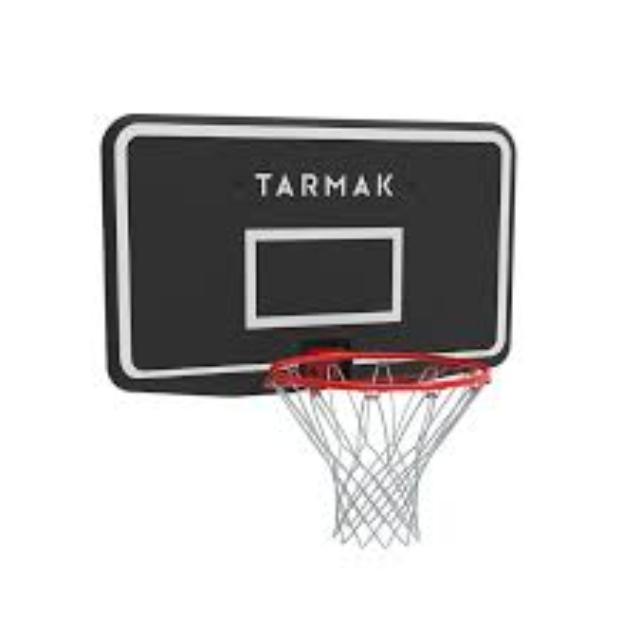rim: (268, 352, 492, 546)
